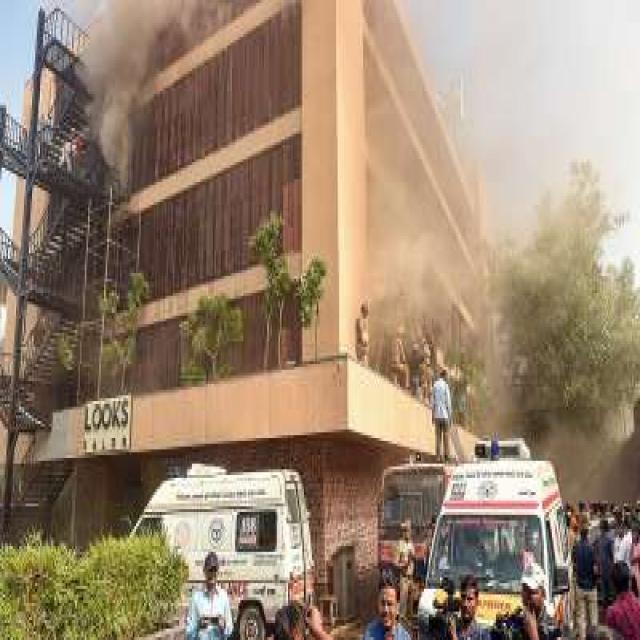emergency: (132, 464, 314, 639), (420, 438, 571, 630)
